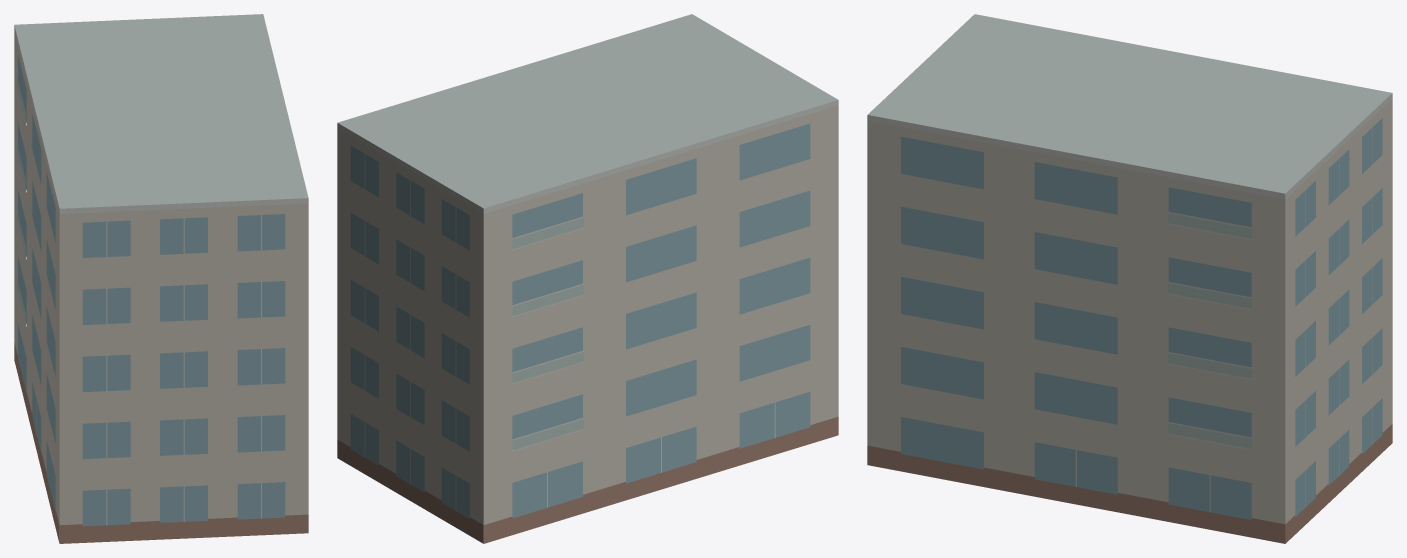
File: survey-upis-32530868.glb
The picture shows the model from 3 angles, left to right: view 1: azimuth 30°, elevation 25°; view 2: azimuth 150°, elevation 25°; view 3: azimuth 270°, elevation 25°; orthographic projection. The views are drawn at different scales.
Visible parts, largest first — view 1: survey-upis-32530868.tmp; view 2: survey-upis-32530868.tmp; view 3: survey-upis-32530868.tmp.
Boxes of the visible parts, x1,y1,x2,y2 form: survey-upis-32530868.tmp: [14, 14, 308, 543]; survey-upis-32530868.tmp: [337, 14, 838, 543]; survey-upis-32530868.tmp: [867, 14, 1392, 543].
Bounding box in the file's own units: 16.79 × 15.25 × 20.73.
